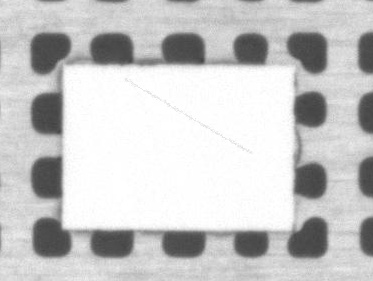DIE_CRACK: (166, 60, 333, 115)
